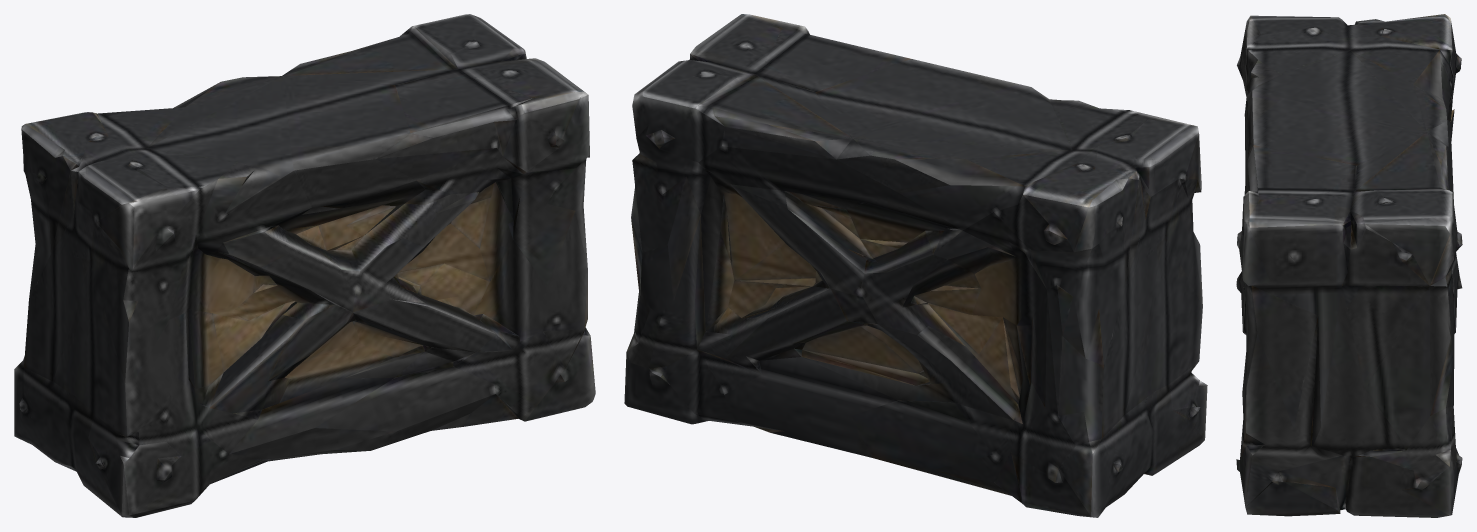
Rendered from iron-crate.lod.glb.
3 views of the same model, side by side, from view 1: azimuth 30°, elevation 25°; view 2: azimuth 150°, elevation 25°; view 3: azimuth 270°, elevation 25° (orthographic). The views are drawn at different scales.
Visible parts, largest first — view 1: output_unwrapped; view 2: output_unwrapped; view 3: output_unwrapped.
Boxes of the visible parts, x1,y1,x2,y2 form: output_unwrapped: (14,14,595,517); output_unwrapped: (624,14,1207,517); output_unwrapped: (1236,14,1462,517).
Size of the model in its own units: 1.93 by 1.21 by 0.8277.
Materials: 1 (1 with a texture image).
